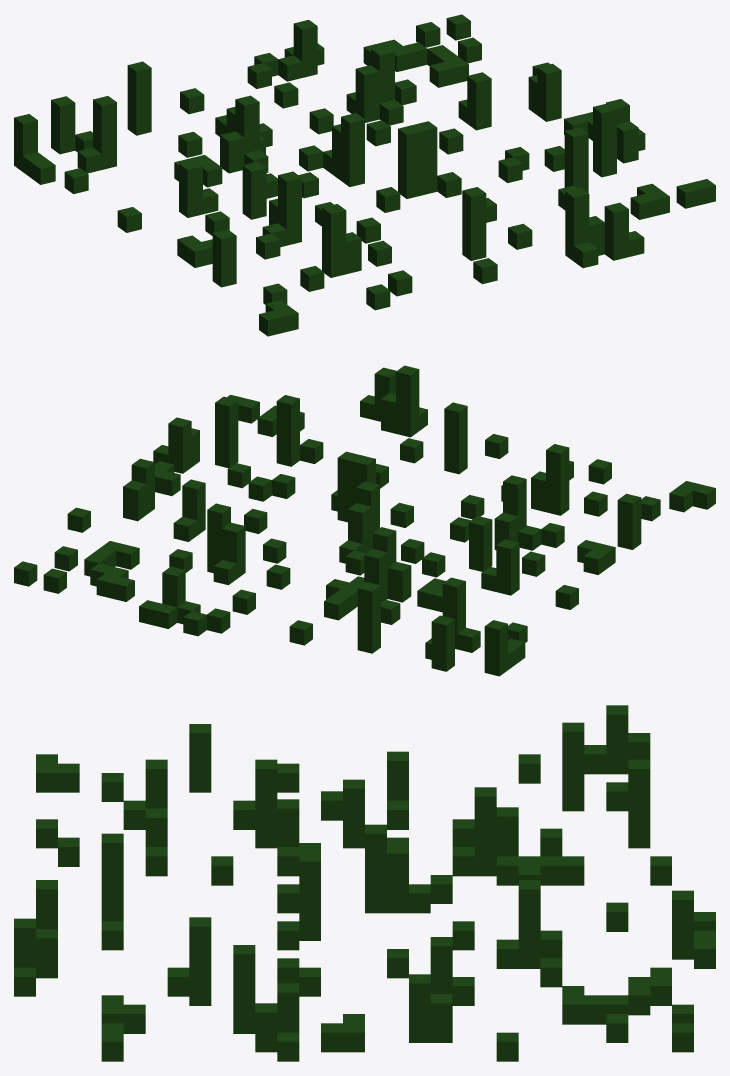
File: grass.dae
The picture shows the model from 3 angles, top to bottom: view 1: azimuth 30°, elevation 25°; view 2: azimuth 150°, elevation 25°; view 3: azimuth 270°, elevation 25°; orthographic projection. The views are drawn at different scales.
Visible parts, largest first — view 1: grass; view 2: grass; view 3: grass.
Part boxes in pixels (x1=…): grass: x1=14, y1=14, x2=715, y2=336; grass: x1=14, y1=365, x2=715, y2=676; grass: x1=14, y1=705, x2=715, y2=1061.
Bounding box in the file's own units: 32 × 4 × 32.
1 material, 1 textured.
